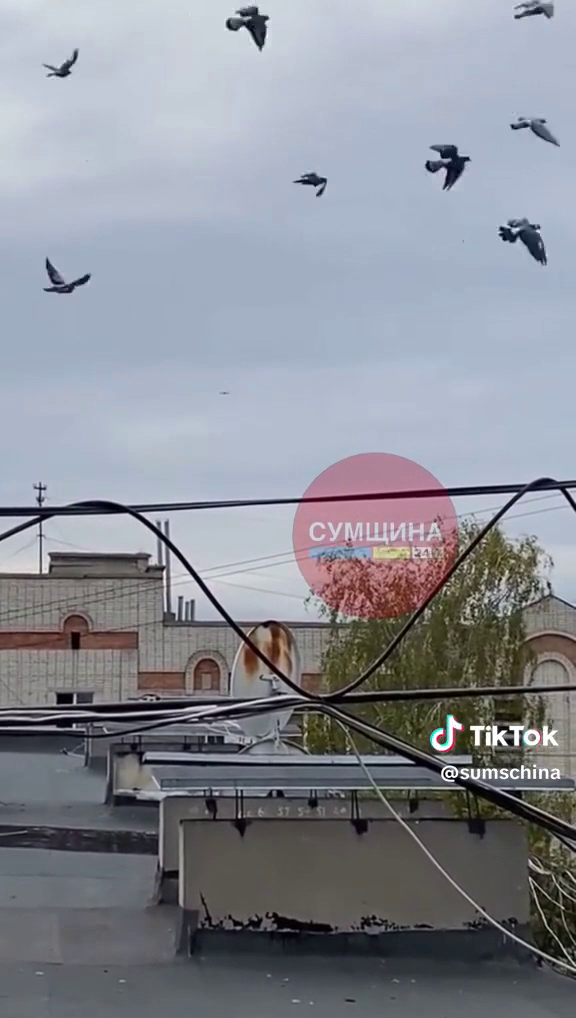not_drone: (224, 5, 278, 56), (38, 254, 96, 300), (290, 164, 334, 202), (39, 46, 83, 82), (510, 0, 560, 25)
